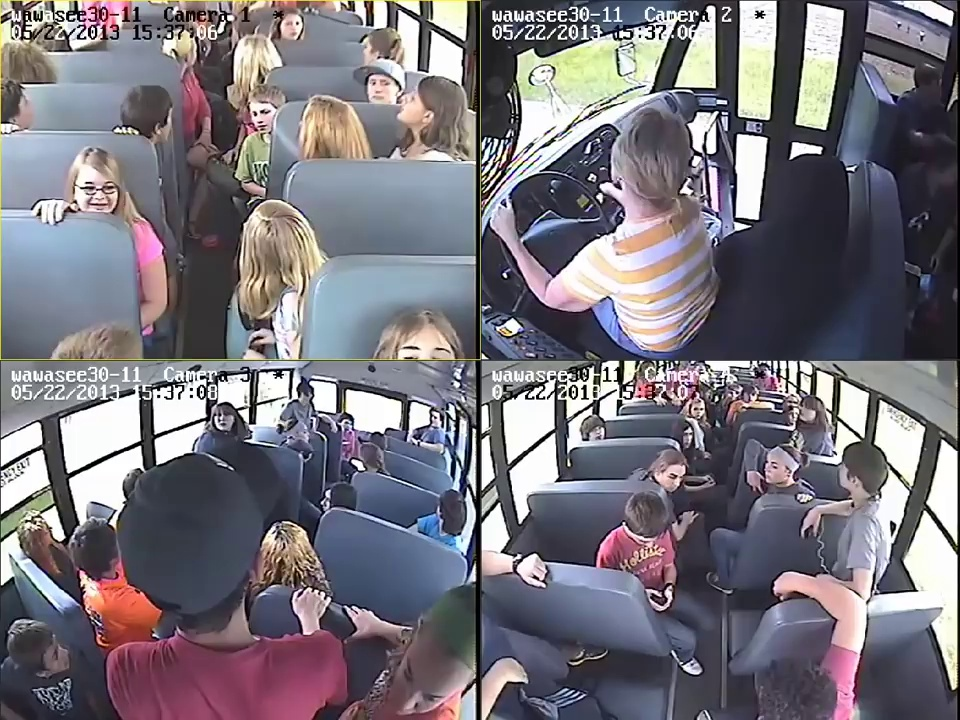face: (80, 168, 121, 215), (44, 636, 69, 674), (250, 98, 277, 133), (365, 75, 393, 103), (763, 457, 787, 485), (662, 463, 685, 490), (283, 13, 304, 40), (795, 399, 816, 420), (213, 409, 231, 430), (679, 424, 694, 448), (588, 420, 605, 439), (690, 399, 706, 419), (743, 391, 758, 405), (429, 411, 442, 426)
